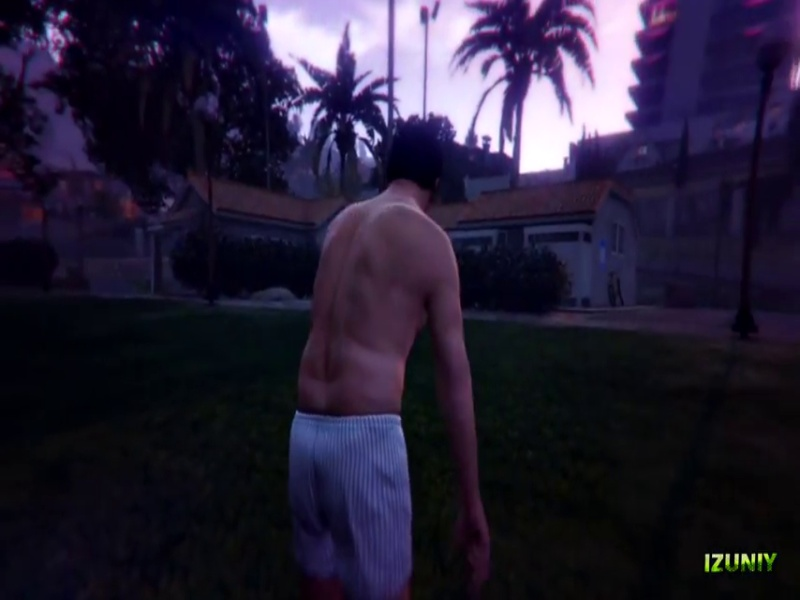human: (278, 64, 513, 594)
